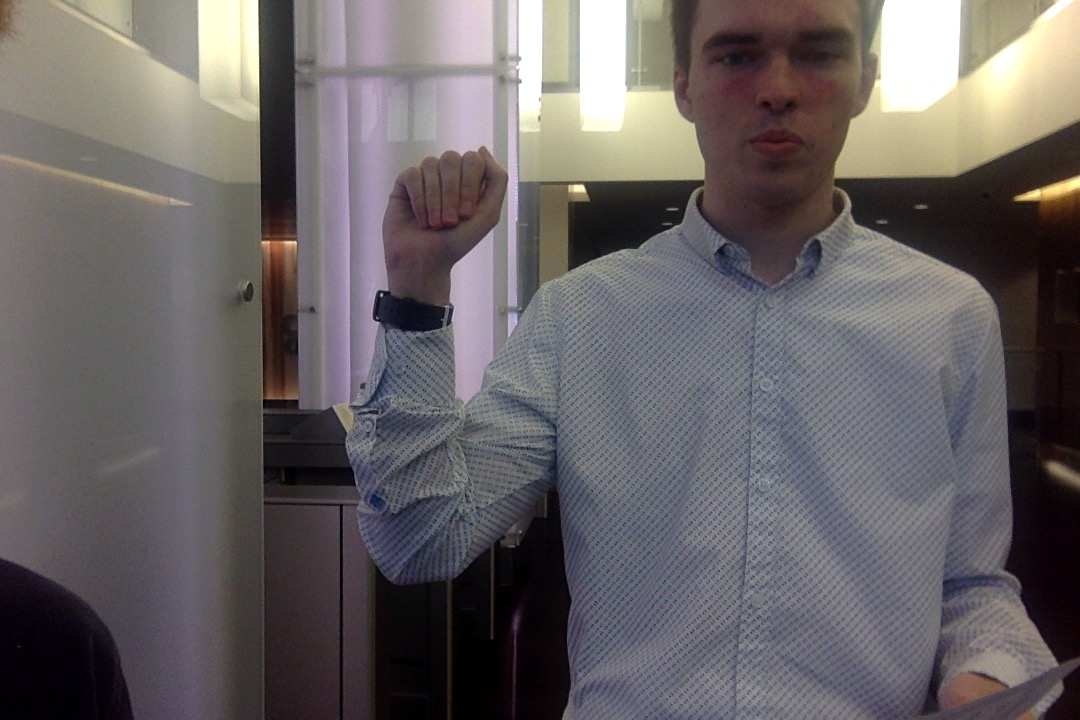a: (376, 141, 513, 274)
